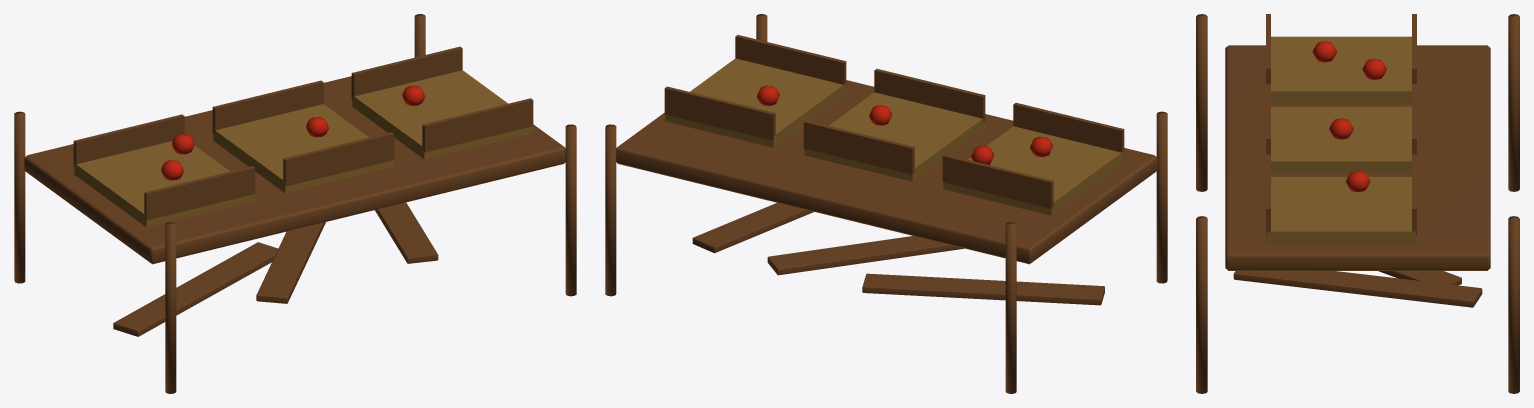
Rendered from market-stall-broken.glb.
The picture shows the model from 3 angles, left to right: view 1: azimuth 30°, elevation 25°; view 2: azimuth 150°, elevation 25°; view 3: azimuth 270°, elevation 25°; orthographic projection. The views are drawn at different scales.
Visible parts, largest first — view 1: market-stall-broken; view 2: market-stall-broken; view 3: market-stall-broken.
Part boxes in pixels (<box>): market-stall-broken: <box>14,14,576,393</box>; market-stall-broken: <box>605,14,1167,393</box>; market-stall-broken: <box>1196,14,1519,393</box>.
Bounding box in the file's own units: 3 × 1.19 × 1.95.
Materials: 1 (1 with a texture image).
